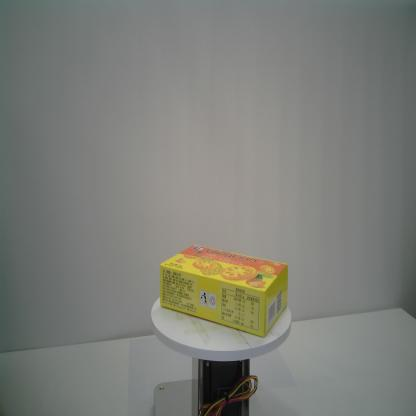Dessert: (159, 243, 289, 338)
